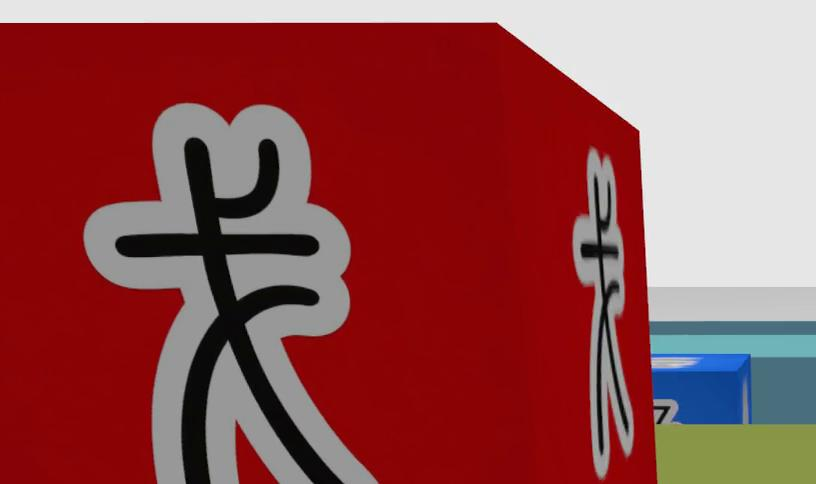KFS_FAKE: (0, 23, 656, 484), (85, 105, 377, 484), (573, 148, 636, 478)
